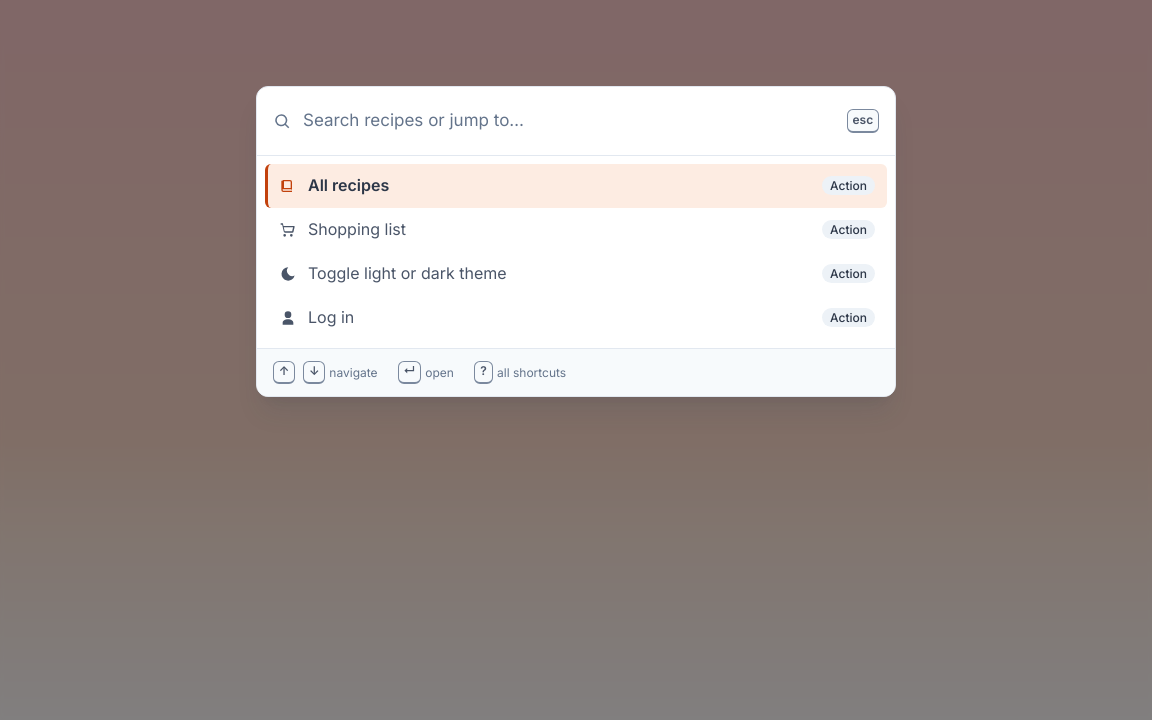
Test: CommandPalette › filters the command list as you type
This screenshot has width=1152, height=720.
Type "shopping" into the dropdown at [569, 121], box x1=303 y1=99 x2=835 y2=143
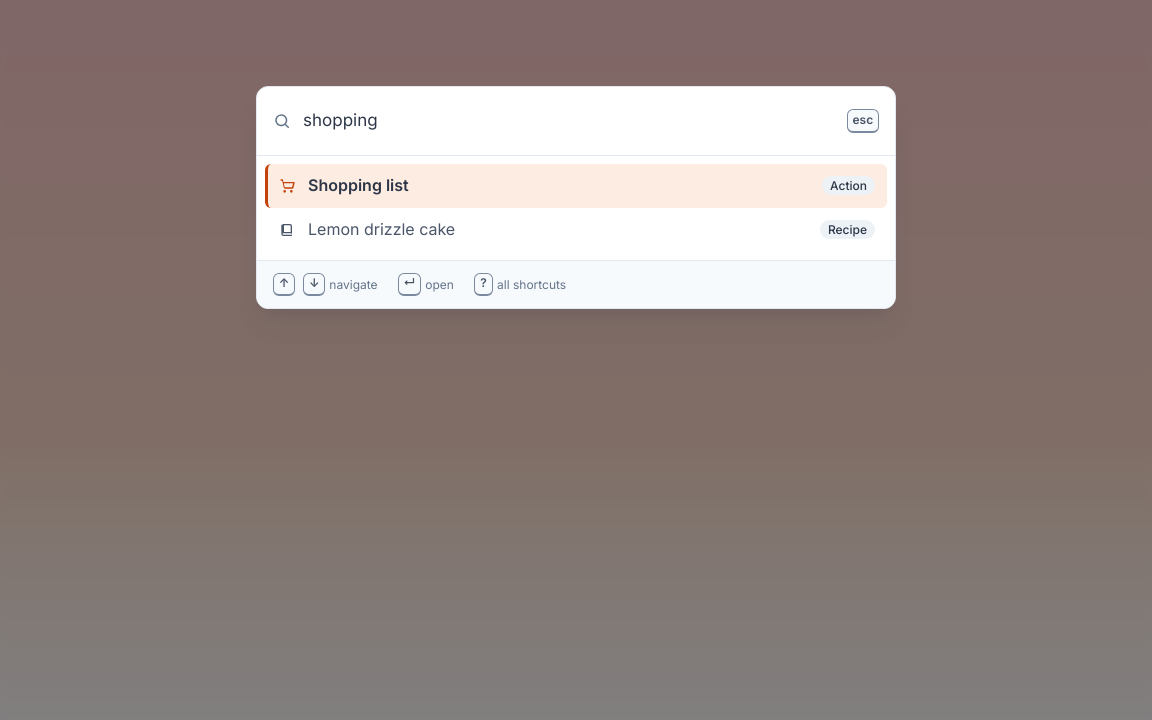
expect the option "Shopping list Action" is shown: met, box x1=265 y1=164 x2=887 y2=208
expect the option "All recipes" is gone: met
